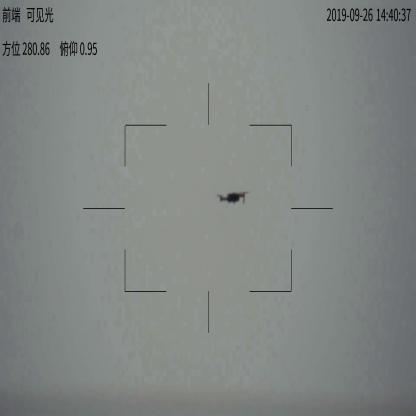uav: (219, 189, 253, 208)
